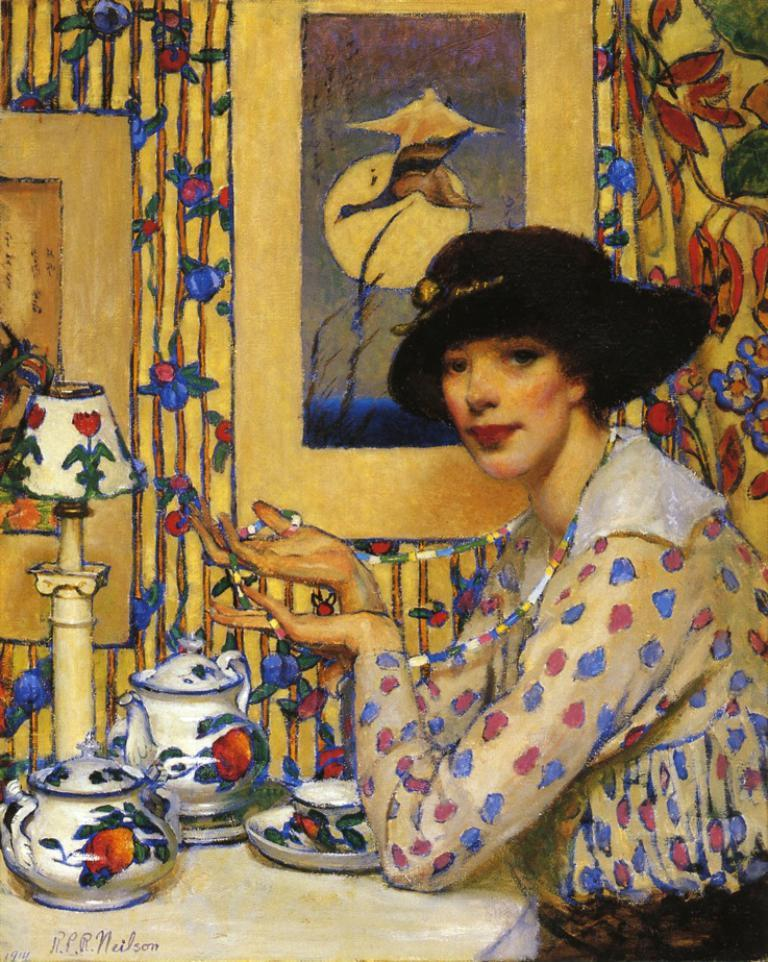Hat: (384, 222, 713, 430)
